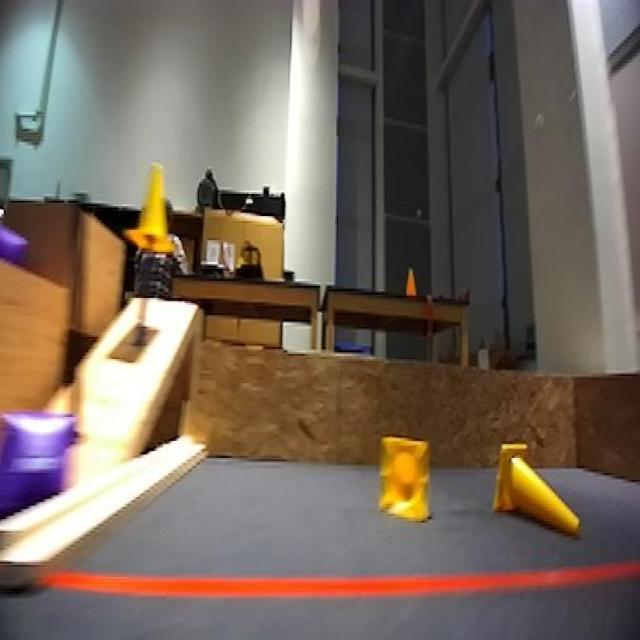frc_cone: (492, 432, 588, 538), (129, 158, 181, 257), (376, 432, 432, 519)
frc_cube: (0, 409, 77, 519), (0, 213, 30, 264)
